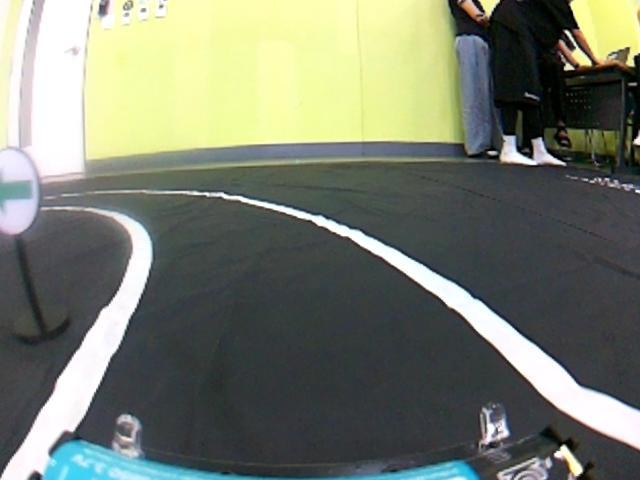sign_left: (0, 143, 49, 250)
straight: (75, 214, 604, 479)
